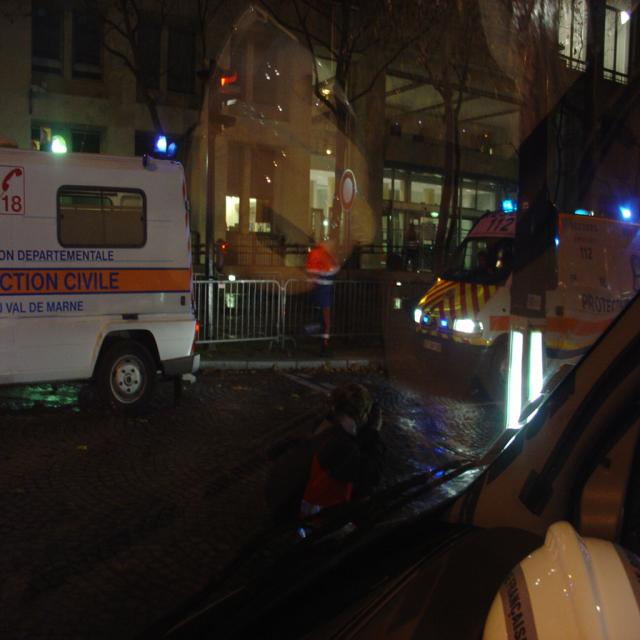Ambulance: (0, 144, 199, 428)
